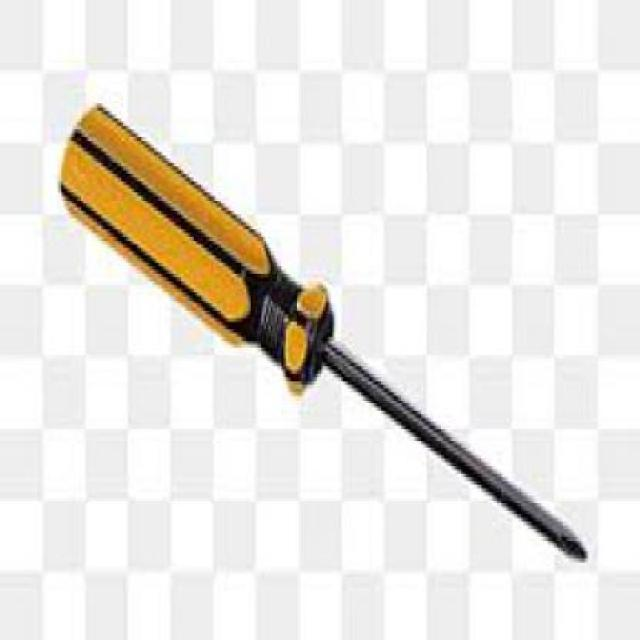screwdriver: (53, 100, 592, 566)
